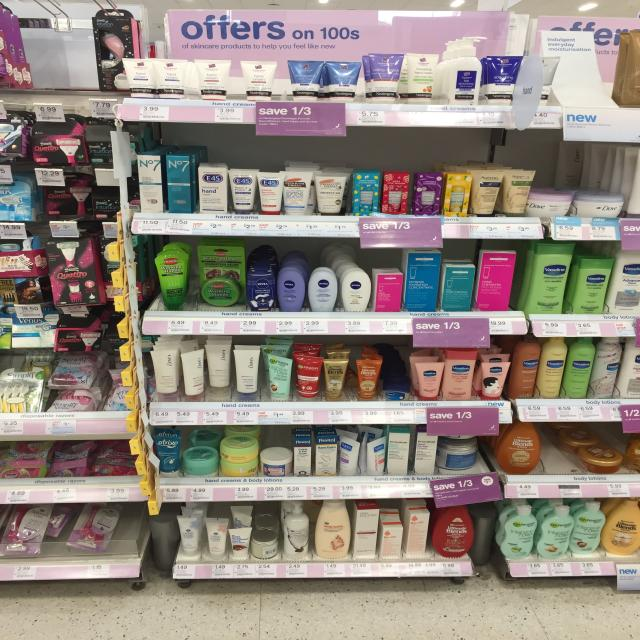empty: (14, 10, 99, 95), (542, 428, 579, 469)
